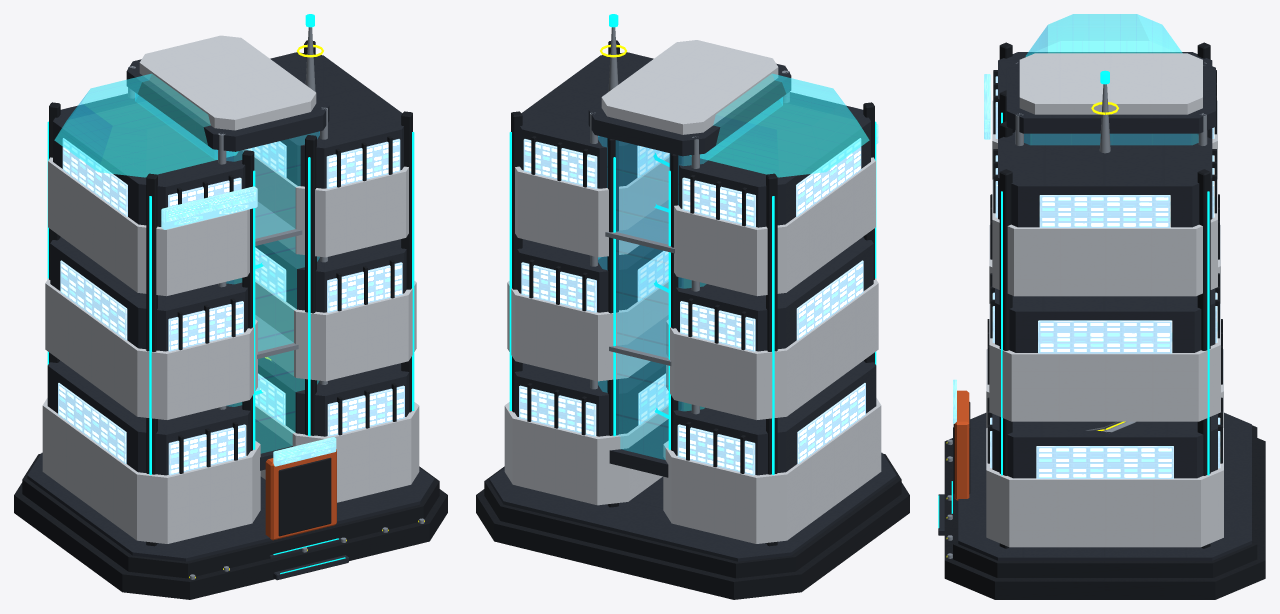
Rendered from bldg_17_r1_03.glb.
The picture shows the model from 3 angles, left to right: view 1: azimuth 30°, elevation 25°; view 2: azimuth 150°, elevation 25°; view 3: azimuth 270°, elevation 25°; orthographic projection.
Parts seen in each view (by area): view 1: Bldg17_C03_aero_white, Bldg17_C03_carbon_slate, Bldg17_C03_gunmetal, Bldg17_C03_glass_cyan, Bldg17_C03_window_lit, Bldg17_C03_led_cyan, Bldg17_C03_steel_machined, Bldg17_C03_marquee, Bldg17_C03_accent_orange; view 2: Bldg17_C03_aero_white, Bldg17_C03_carbon_slate, Bldg17_C03_gunmetal, Bldg17_C03_glass_cyan, Bldg17_C03_window_lit, Bldg17_C03_steel_machined, Bldg17_C03_led_cyan; view 3: Bldg17_C03_aero_white, Bldg17_C03_carbon_slate, Bldg17_C03_gunmetal, Bldg17_C03_window_lit, Bldg17_C03_glass_cyan, Bldg17_C03_led_cyan, Bldg17_C03_accent_orange, Bldg17_C03_steel_machined, Bldg17_C03_marquee.
Part boxes in pixels (box(x1,y1,x2,y2)): Bldg17_C03_aero_white: box(42, 35, 419, 543); Bldg17_C03_carbon_slate: box(27, 52, 434, 580); Bldg17_C03_gunmetal: box(14, 40, 447, 599); Bldg17_C03_glass_cyan: box(54, 73, 319, 453); Bldg17_C03_window_lit: box(58, 138, 404, 475); Bldg17_C03_led_cyan: box(47, 14, 414, 574); Bldg17_C03_steel_machined: box(128, 27, 424, 579); Bldg17_C03_marquee: box(161, 186, 336, 466); Bldg17_C03_accent_orange: box(265, 449, 336, 540); Bldg17_C03_aero_white: box(504, 40, 881, 543); Bldg17_C03_carbon_slate: box(489, 52, 896, 561); Bldg17_C03_gunmetal: box(476, 40, 909, 599); Bldg17_C03_glass_cyan: box(598, 73, 869, 459); Bldg17_C03_window_lit: box(519, 138, 865, 475); Bldg17_C03_steel_machined: box(590, 27, 789, 414); Bldg17_C03_led_cyan: box(509, 14, 876, 475); Bldg17_C03_aero_white: box(986, 53, 1223, 547); Bldg17_C03_carbon_slate: box(938, 52, 1251, 560); Bldg17_C03_gunmetal: box(944, 42, 1265, 599); Bldg17_C03_window_lit: box(990, 76, 1220, 478); Bldg17_C03_glass_cyan: box(1024, 14, 1198, 144); Bldg17_C03_led_cyan: box(938, 70, 1209, 528); Bldg17_C03_accent_orange: box(954, 390, 969, 500); Bldg17_C03_steel_machined: box(947, 62, 1207, 558); Bldg17_C03_marquee: box(953, 74, 990, 423).
Bounding box in the file's own units: 12.5 × 17.52 × 10.71.
10 materials, 10 textured.
